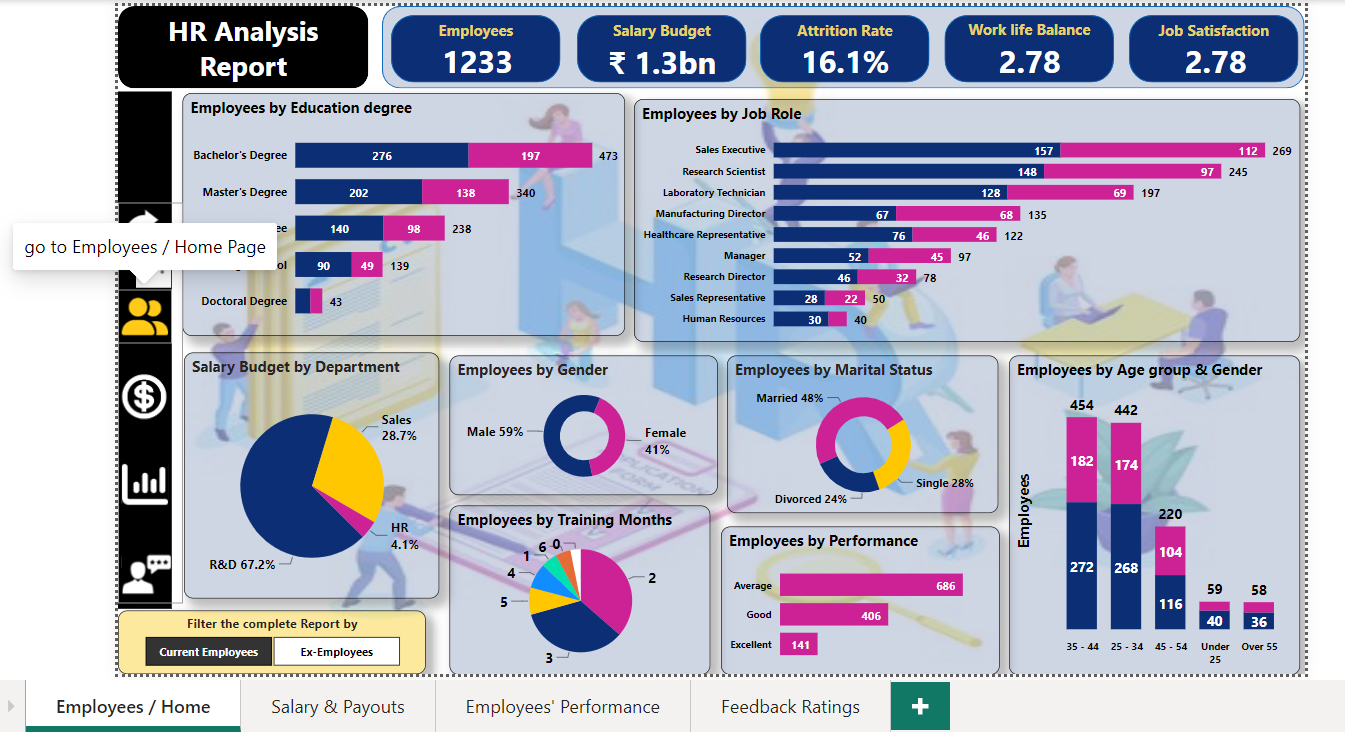

What the dashboard file says about the page in this screenshot:
{"tool":"powerbi","page":{"name":"Employees / Home","canvas":[1280,720],"ordinal":0},"visuals":[{"type":"shape","title":"Report Title grp","box":[0,0,270.2,89],"z":0},{"type":"shape","title":"backgroung","box":[284.8,0,995.1,89],"z":0,"group":"g3"},{"type":"shape","box":[294.5,9.4,182.8,72.8],"z":0,"group":"g2"},{"type":"shape","box":[494.7,9.4,182.8,72.8],"z":0,"group":"g1"},{"type":"shape","box":[693.3,9.4,182.8,72.8],"z":0,"group":"g4"},{"type":"shape","box":[1090.6,9.4,182.8,72.8],"z":0,"group":"g5"},{"type":"shape","box":[891.9,10.2,182.8,72.8],"z":0,"group":"g7"},{"type":"actionButton","box":[0,212,58.2,64.7],"z":0,"group":"g8"},{"type":"pieChart","title":"Salary Budget by Department","fields":{"Category":["Employees.Department"],"Y":["Measures Table.#10 Salary Budget"]},"box":[70.5,372.3,275.1,265.3],"z":0,"group":"g6"},{"type":"textbox","box":[891.9,8.6,182.8,37.2],"z":1000,"group":"g7"},{"type":"textbox","box":[294.5,9.4,182.8,37.2],"z":1000,"group":"g2"},{"type":"group","id":"g1","title":"Group 1","box":[494.7,9.4,182.8,72.8],"z":1000,"group":"g3"},{"type":"textbox","box":[494.7,9.4,182.8,37.2],"z":1000,"group":"g1"},{"type":"textbox","box":[693.3,9.4,182.8,37.2],"z":1000,"group":"g4"},{"type":"textbox","box":[1090.6,9.4,182.8,37.2],"z":1000,"group":"g5"},{"type":"shape","box":[0,92.2,58.2,558.2],"z":1000},{"type":"actionButton","box":[0,305.8,58.2,58.2],"z":1000,"group":"g8"},{"type":"columnChart","title":"Employees by Age group & Gender","fields":{"Category":["Employees.Age Group"],"Y":["Measures Table.#1 Total Employees"],"Series":["Employees.Gender"]},"box":[960.4,375.5,313.9,344.6],"z":1000,"group":"g6"},{"type":"group","id":"g2","title":"Group 2","box":[294.5,9.4,184.4,72.8],"z":2000,"group":"g3"},{"type":"card","title":"card","fields":{"Values":["Measures Table.#1 Total Employees"]},"box":[296.1,35.3,182.8,46.9],"z":2000,"group":"g2"},{"type":"card","title":"card","fields":{"Values":["Measures Table.#5 Attrition Rate"]},"box":[693.3,35.3,182.8,46.9],"z":2000,"group":"g4"},{"type":"card","title":"card","fields":{"Values":["Measures Table.#7 Rating Job Satisfaction"]},"box":[1092.2,35.3,182.8,46.9],"z":2000,"group":"g5"},{"type":"card","title":"card","fields":{"Values":["Measures Table.#9 Rating Work life Balance"]},"box":[891.9,36.1,182.8,46.9],"z":2000,"group":"g7"},{"type":"card","title":"card","fields":{"Values":["Measures Table.#10 Salary Budget"]},"box":[494.7,38.5,182.8,43.7],"z":2000,"group":"g1"},{"type":"barChart","title":"Employees by Education degree","fields":{"Category":["Employees.Education"],"Y":["Measures Table.#1 Total Employees"],"Series":["Employees.Gender"]},"box":[69.4,93.1,477.3,262.1],"z":2000,"group":"g6"},{"type":"actionButton","box":[0,393.2,58.2,56.6],"z":2000,"group":"g8"},{"type":"slicer","title":"Filter the complete Report by","fields":{"Values":["Employees.attrition label"]},"box":[0,651.7,331.7,68.3],"z":2000},{"type":"group","id":"g3","title":"KPIs #group","box":[284.8,0,995.1,89],"z":3000},{"type":"group","id":"g4","title":"Group 3","box":[693.3,9.4,182.8,72.8],"z":3000,"group":"g3"},{"type":"donutChart","title":"Employees by Gender ","fields":{"Category":["Employees.Gender"],"Y":["Measures Table.#1 Total Employees"]},"box":[356.9,375.5,289.6,150.5],"z":3000,"group":"g6"},{"type":"actionButton","box":[0,479,58.2,74.4],"z":3000,"group":"g8"},{"type":"group","id":"g5","title":"Group 4","box":[1090.6,9.4,184.4,72.8],"z":4000,"group":"g3"},{"type":"group","id":"g6","title":"All charts #group","box":[69.4,93.1,1204.9,627],"z":4000},{"type":"donutChart","title":"Employees by Marital Status","fields":{"Y":["Measures Table.#1 Total Employees"],"Category":["Salary & Payouts.Marital Status"]},"box":[657.3,375.5,292.9,169.9],"z":4000,"group":"g6"},{"type":"actionButton","box":[0,582.5,69.6,61.5],"z":4000,"group":"g8"},{"type":"group","id":"g7","title":"Group 5","box":[891.9,8.6,182.8,74.4],"z":5000,"group":"g3"},{"type":"group","id":"g8","title":"Group 6","box":[0,212,69.6,432],"z":5000},{"type":"pieChart","title":"Employees by Training Months","fields":{"Category":["Salary & Payouts.Training Times Last Year (Months)"],"Y":["Measures Table.#1 Total Employees"]},"box":[356.9,537.3,281.5,182.8],"z":5000,"group":"g6"},{"type":"barChart","title":"Employees by Job Role","fields":{"Y":["Measures Table.#1 Total Employees"],"Series":["Employees.Gender"],"Category":["Employees.Job Role"]},"box":[555.9,98.8,718.4,262.1],"z":6000,"group":"g6"},{"type":"barChart","fields":{"Category":["Salary & Payouts.Performance"],"Y":["Measures Table.#1 Total Employees"]},"box":[649.7,560,300.9,160.2],"z":7000,"group":"g6"}]}

Visuals, with their boxes on the page's 1280x720 design canvas (x1, y1, x2, y2). These are canvas units, not pixel positions in the 1345x732 screenshot, which may show the page scaled, cropped or inside an application window:
"Report Title grp" shape: BBox(0, 0, 270, 89)
"backgroung" shape: BBox(285, 0, 1280, 89)
shape: BBox(294, 9, 477, 82)
shape: BBox(495, 9, 678, 82)
shape: BBox(693, 9, 876, 82)
shape: BBox(1091, 9, 1273, 82)
shape: BBox(892, 10, 1075, 83)
actionButton: BBox(0, 212, 58, 277)
"Salary Budget by Department" pieChart: BBox(70, 372, 346, 638)
textbox: BBox(892, 9, 1075, 46)
textbox: BBox(294, 9, 477, 47)
"Group 1" group: BBox(495, 9, 678, 82)
textbox: BBox(495, 9, 678, 47)
textbox: BBox(693, 9, 876, 47)
textbox: BBox(1091, 9, 1273, 47)
shape: BBox(0, 92, 58, 650)
actionButton: BBox(0, 306, 58, 364)
"Employees by Age group & Gender" columnChart: BBox(960, 376, 1274, 720)
"Group 2" group: BBox(294, 9, 479, 82)
"card" card: BBox(296, 35, 479, 82)
"card" card: BBox(693, 35, 876, 82)
"card" card: BBox(1092, 35, 1275, 82)
"card" card: BBox(892, 36, 1075, 83)
"card" card: BBox(495, 38, 678, 82)
"Employees by Education degree" barChart: BBox(69, 93, 547, 355)
actionButton: BBox(0, 393, 58, 450)
"Filter the complete Report by" slicer: BBox(0, 652, 332, 720)
"KPIs #group" group: BBox(285, 0, 1280, 89)
"Group 3" group: BBox(693, 9, 876, 82)
"Employees by Gender " donutChart: BBox(357, 376, 646, 526)
actionButton: BBox(0, 479, 58, 553)
"Group 4" group: BBox(1091, 9, 1275, 82)
"All charts #group" group: BBox(69, 93, 1274, 720)
"Employees by Marital Status" donutChart: BBox(657, 376, 950, 545)
actionButton: BBox(0, 582, 70, 644)
"Group 5" group: BBox(892, 9, 1075, 83)
"Group 6" group: BBox(0, 212, 70, 644)
"Employees by Training Months" pieChart: BBox(357, 537, 638, 720)
"Employees by Job Role" barChart: BBox(556, 99, 1274, 361)
barChart - Salary & Payouts.Performance x Measures Table.#1 Total Employees: BBox(650, 560, 951, 720)
